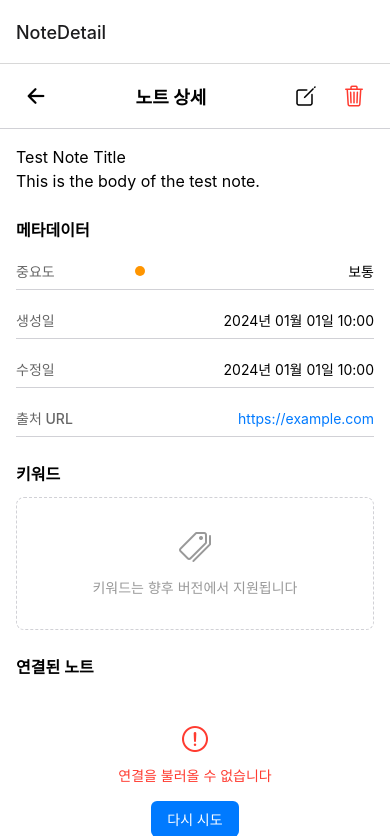
Test: NoteDetailScreen › Edit Mode › should enter edit mode when edit button is pressed
Click the element with test id "edit-button": (306, 96) x1=294 y1=84 x2=318 y2=108
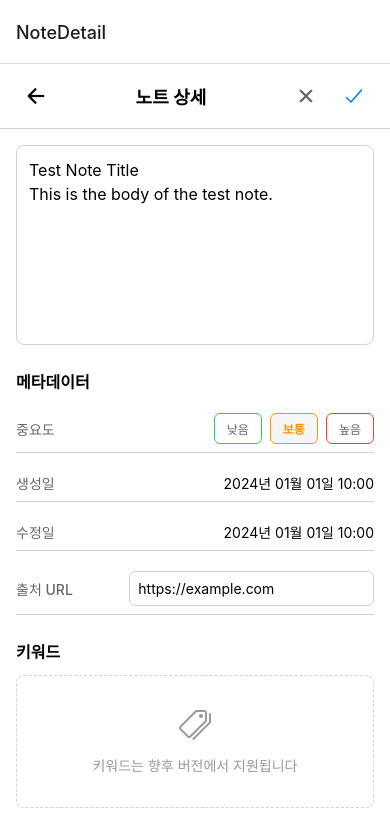
expect the text box with test id "body-input" is shown: met, box x1=16 y1=145 x2=374 y2=345
expect the element with test id "save-edit-button" is shown: met, box x1=342 y1=84 x2=366 y2=108
expect the element with test id "cancel-edit-button" is shown: met, box x1=294 y1=84 x2=318 y2=108
